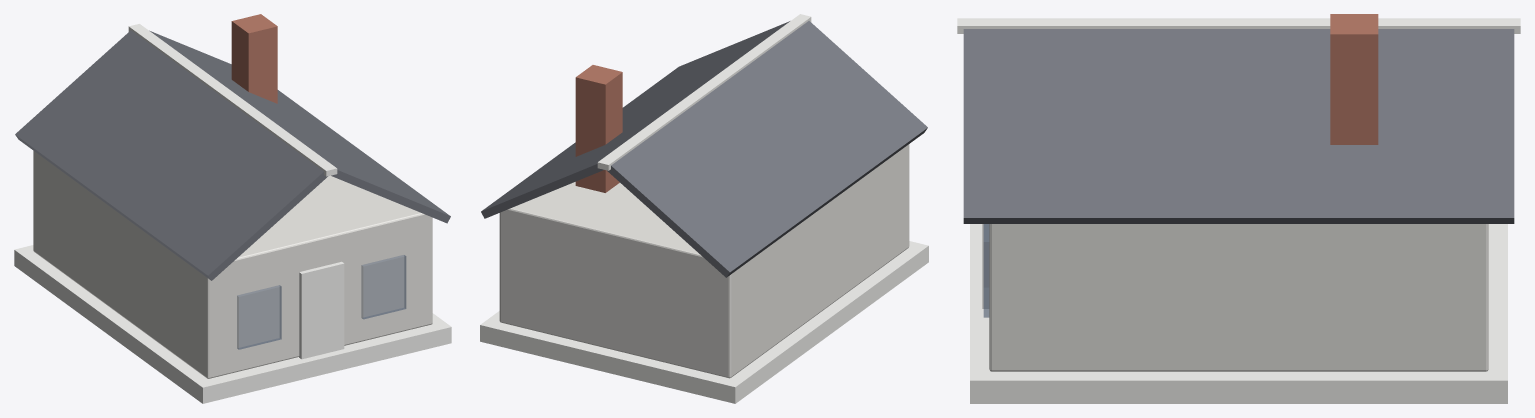
The model's file is house.glb.
3 renders of one model, left to right at view 1: azimuth 30°, elevation 25°; view 2: azimuth 150°, elevation 25°; view 3: azimuth 270°, elevation 25°, orthographic. The views are drawn at different scales.
Visible parts, largest first — view 1: Cube.001, Roof_L, Cube, Roof_R, Cube.004, Cube.003, Cube.002, Cube.006, Cube.005; view 2: Cube.001, Roof_L, Cube, Roof_R, Cube.003, Cube.002; view 3: Roof_R, Cube.001, Cube, Cube.003, Cube.002, Cube.006, Cube.004.
Part boxes in pixels (left/top/right/bottom): Cube.001: left=33, top=151, right=432, bottom=378; Roof_L: left=15, top=30, right=327, bottom=280; Cube: left=14, top=245, right=451, bottom=403; Roof_R: left=149, top=30, right=450, bottom=223; Cube.004: left=299, top=261, right=344, bottom=359; Cube.003: left=231, top=14, right=277, bottom=103; Cube.002: left=128, top=24, right=337, bottom=176; Cube.006: left=361, top=255, right=406, bottom=319; Cube.005: left=237, top=285, right=281, bottom=349; Cube.001: left=499, top=144, right=909, bottom=378; Roof_L: left=607, top=21, right=927, bottom=277; Cube: left=480, top=241, right=928, bottom=403; Roof_R: left=481, top=21, right=789, bottom=218; Cube.003: left=575, top=65, right=622, bottom=192; Cube.002: left=597, top=14, right=811, bottom=170; Roof_R: left=963, top=29, right=1514, bottom=223; Cube.001: left=989, top=224, right=1488, bottom=371; Cube: left=970, top=224, right=1507, bottom=403; Cube.003: left=1330, top=14, right=1378, bottom=144; Cube.002: left=957, top=18, right=1520, bottom=33; Cube.006: left=983, top=224, right=989, bottom=317; Cube.004: left=982, top=224, right=988, bottom=308.
Size of the model in its own units: 6.4 by 5.8 by 8.8.
